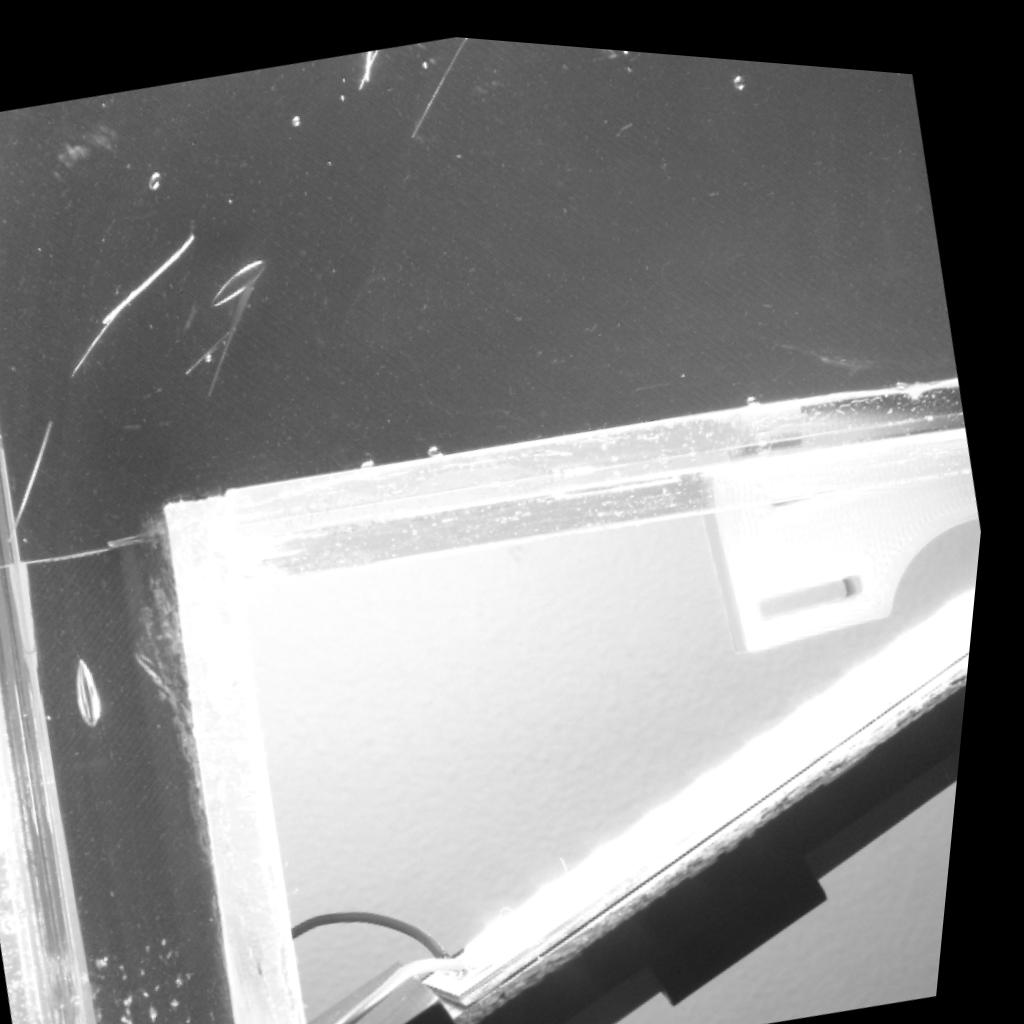Fiber: (103, 227, 201, 323), (69, 279, 145, 377), (11, 413, 63, 549), (410, 29, 467, 133), (212, 276, 256, 394), (191, 319, 248, 369), (355, 43, 379, 86)
